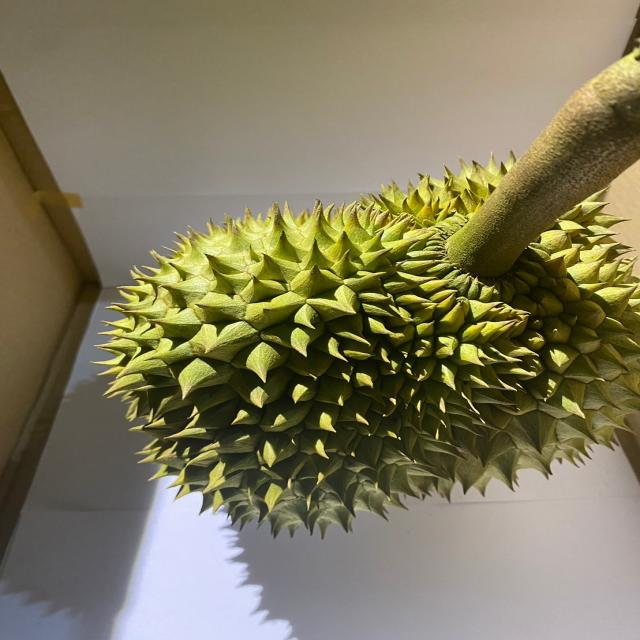immature: (97, 149, 640, 543)
